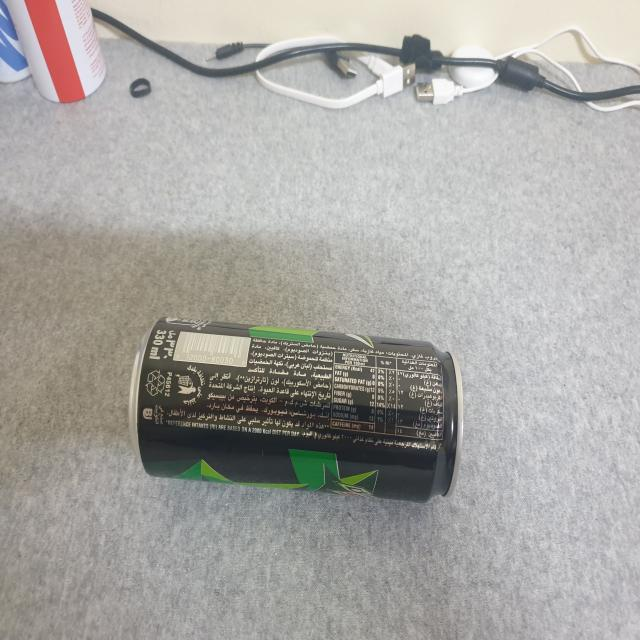non-organic waste: (123, 302, 470, 518)
